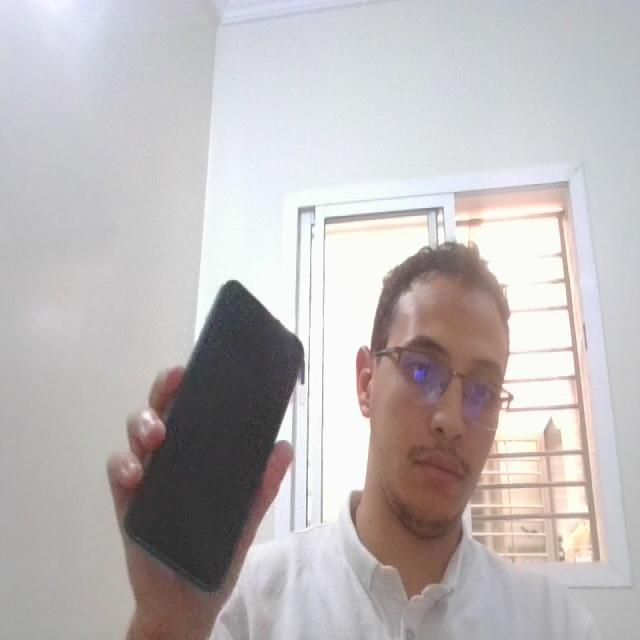phone: (119, 274, 311, 602)
